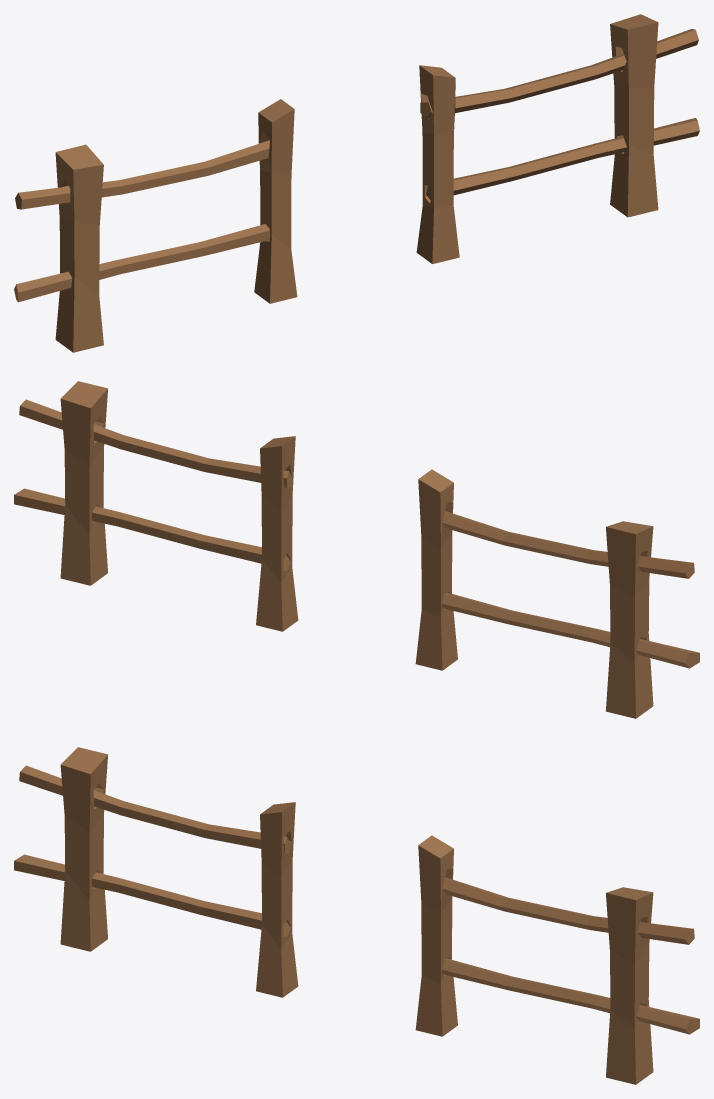
Rendered from Fence_1 Gate.fbx.
3 views of the same model, one above another, from view 1: azimuth 30°, elevation 25°; view 2: azimuth 150°, elevation 25°; view 3: azimuth 330°, elevation 25° (orthographic).
Visible parts, largest first — view 1: FenceGate_mesh; view 2: FenceGate_mesh; view 3: FenceGate_mesh.
Boxes of the visible parts, bbox=[...] form: FenceGate_mesh: bbox=[14, 14, 699, 352]; FenceGate_mesh: bbox=[14, 381, 699, 718]; FenceGate_mesh: bbox=[14, 747, 699, 1084].
Size of the model in its own units: 426 by 111 by 19.02.
